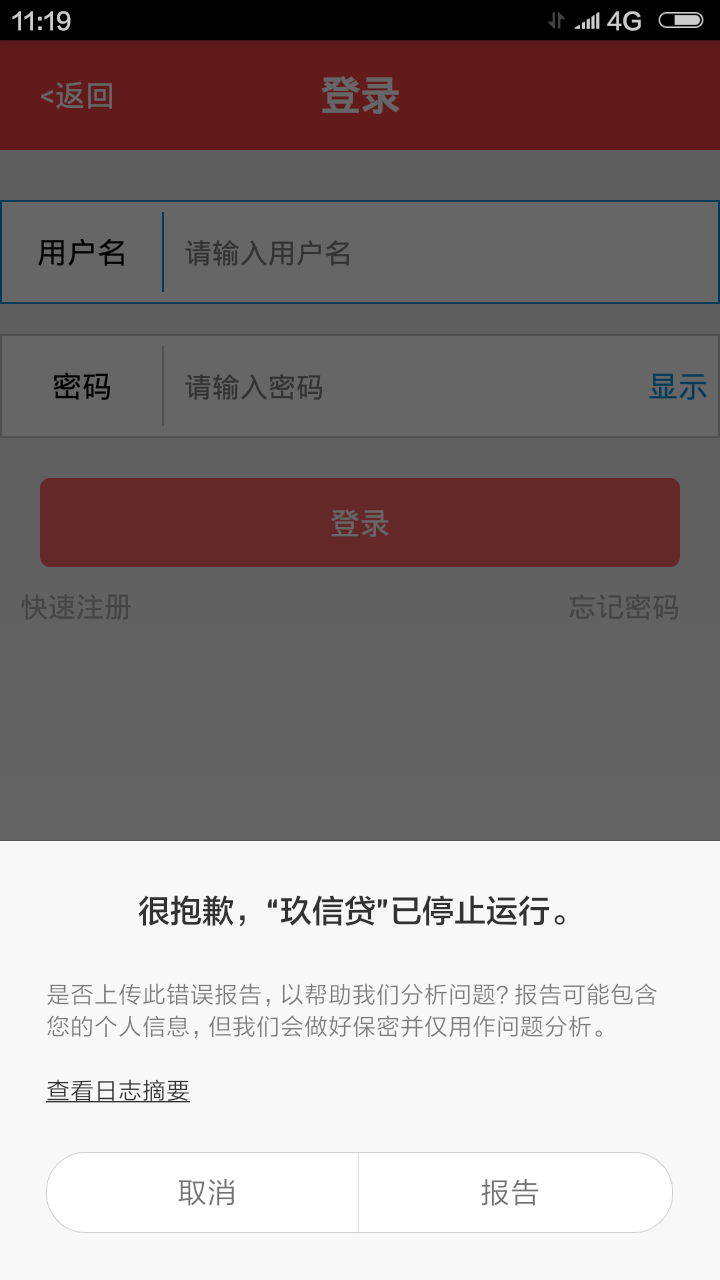alert: (2, 830, 720, 1254)
